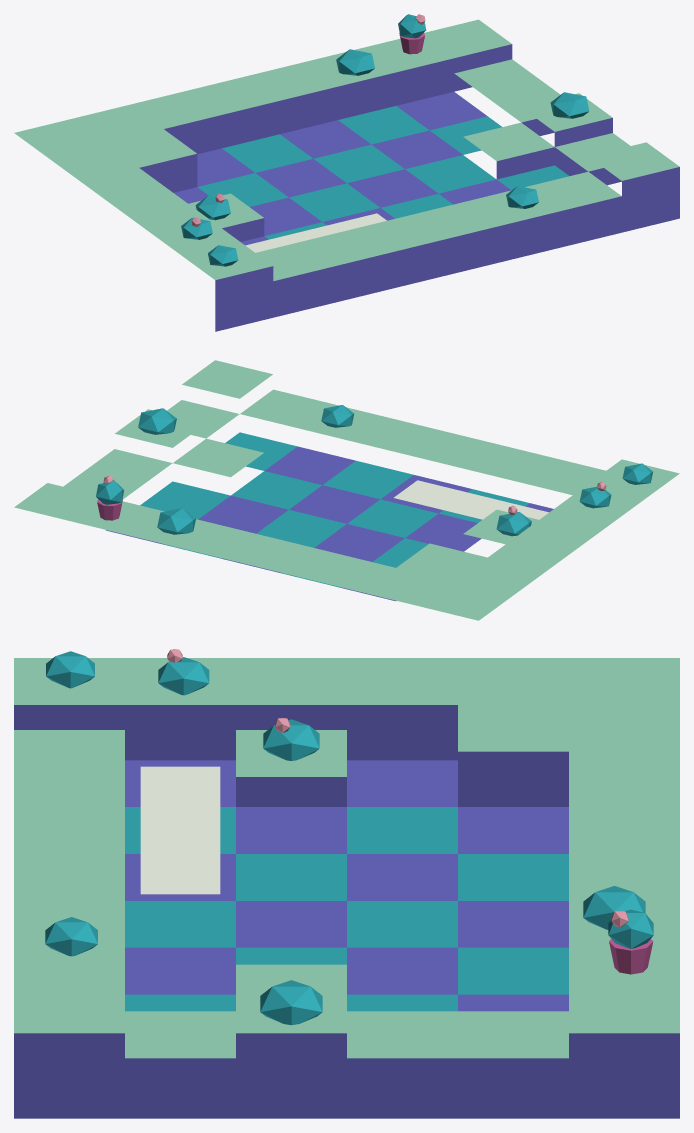
The model's file is room3.glb.
The picture shows the model from 3 angles, top to bottom: view 1: azimuth 30°, elevation 25°; view 2: azimuth 150°, elevation 25°; view 3: azimuth 270°, elevation 25°; orthographic projection. The views are drawn at different scales.
Visible parts, largest first — view 1: Room, Bush2, Bush6, Bush5, Bush0, Bush4, Bush1, PotLeaf3; view 2: Room, Bush2, Bush6, Bush5, Bush0, Bush1, PotLeaf3, Bush4; view 3: Room, Bush2, Bush5, Bush6, Bush0, Bush1, Bush4, PotLeaf3, Pot3.
Part boxes in pixels (bbox=[...]): Room: bbox=[14, 19, 679, 331]; Bush2: bbox=[550, 92, 589, 118]; Bush6: bbox=[336, 49, 374, 75]; Bush5: bbox=[195, 195, 230, 220]; Bush0: bbox=[506, 186, 538, 208]; Bush4: bbox=[208, 245, 238, 266]; Bush1: bbox=[181, 217, 212, 239]; PotLeaf3: bbox=[398, 14, 426, 38]; Room: bbox=[14, 360, 679, 620]; Bush2: bbox=[138, 408, 176, 434]; Bush6: bbox=[157, 508, 195, 534]; Bush5: bbox=[496, 512, 531, 536]; Bush0: bbox=[321, 405, 354, 427]; Bush1: bbox=[579, 486, 611, 508]; PotLeaf3: bbox=[96, 480, 124, 504]; Bush4: bbox=[622, 463, 652, 484]; Room: bbox=[14, 658, 679, 1118]; Bush2: bbox=[260, 980, 322, 1025]; Bush5: bbox=[263, 719, 319, 760]; Bush6: bbox=[583, 886, 645, 929]; Bush0: bbox=[45, 917, 97, 956]; Bush1: bbox=[158, 657, 209, 695]; Bush4: bbox=[46, 651, 94, 688]; PotLeaf3: bbox=[608, 909, 653, 948]; Pot3: bbox=[609, 939, 653, 974].
Size of the model in its own units: 8 by 1.45 by 6.
